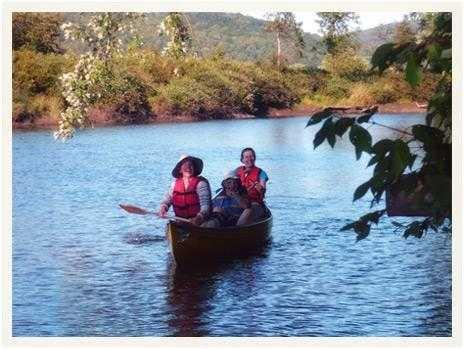kayak: (166, 204, 273, 266)
